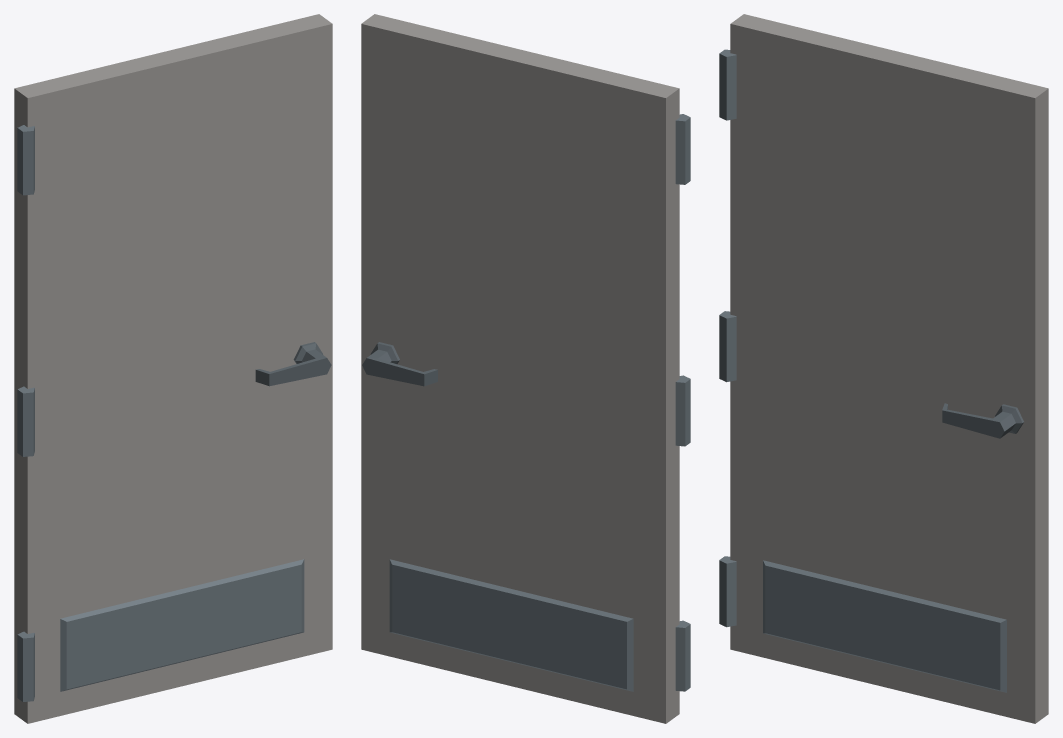
File: SM_Bld_Door_02.glb
3 views of the same model, side by side, from view 1: azimuth 30°, elevation 25°; view 2: azimuth 150°, elevation 25°; view 3: azimuth 330°, elevation 25° (orthographic).
Parts seen in each view (by area): view 1: SM_Bld_Door_02; view 2: SM_Bld_Door_02; view 3: SM_Bld_Door_02.
Boxes of the visible parts, box(x1,y1,x2,y2) form: SM_Bld_Door_02: box(14, 14, 332, 723); SM_Bld_Door_02: box(361, 14, 690, 723); SM_Bld_Door_02: box(719, 14, 1048, 723).
Size of the model in its own units: 1.03 by 1.97 by 0.2473.
Materials: 1 (1 with a texture image).
